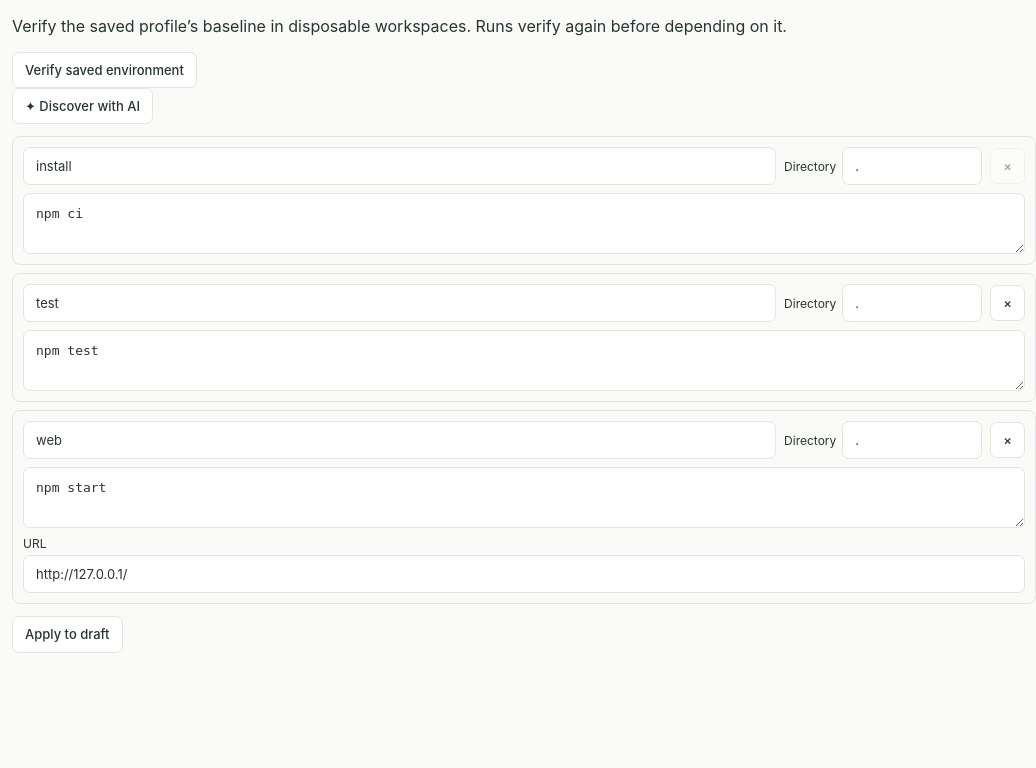
it: applies edited catalog fields and endpoints while preserving runtime metadata and prerequisites
Expected: the text box showing "npm ci" is shown, [23,193,1025,254]
Expected: the button named "Remove install" is disabled, [990,148,1025,184]
Replace the text in the field named "Suggestion 2 name" with "Unit tests" at (400, 303), box [23,284,776,322]
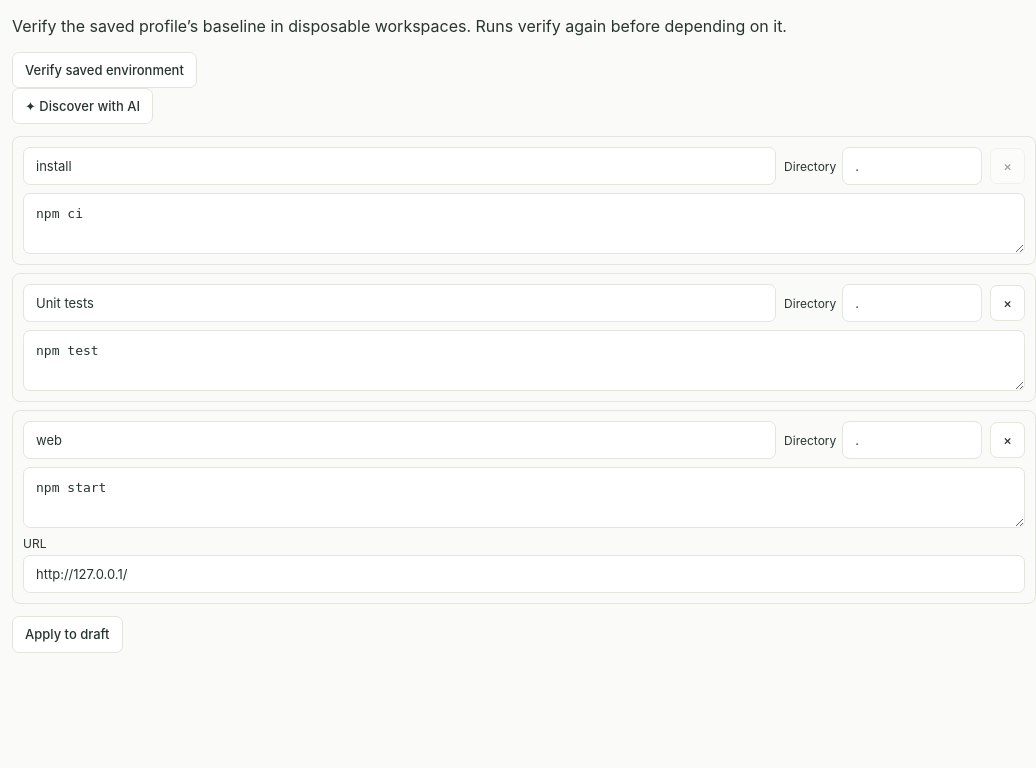
Replace the text in the field named "Suggestion 2 directory" with "frontend" at (912, 303), box [842,284,982,322]
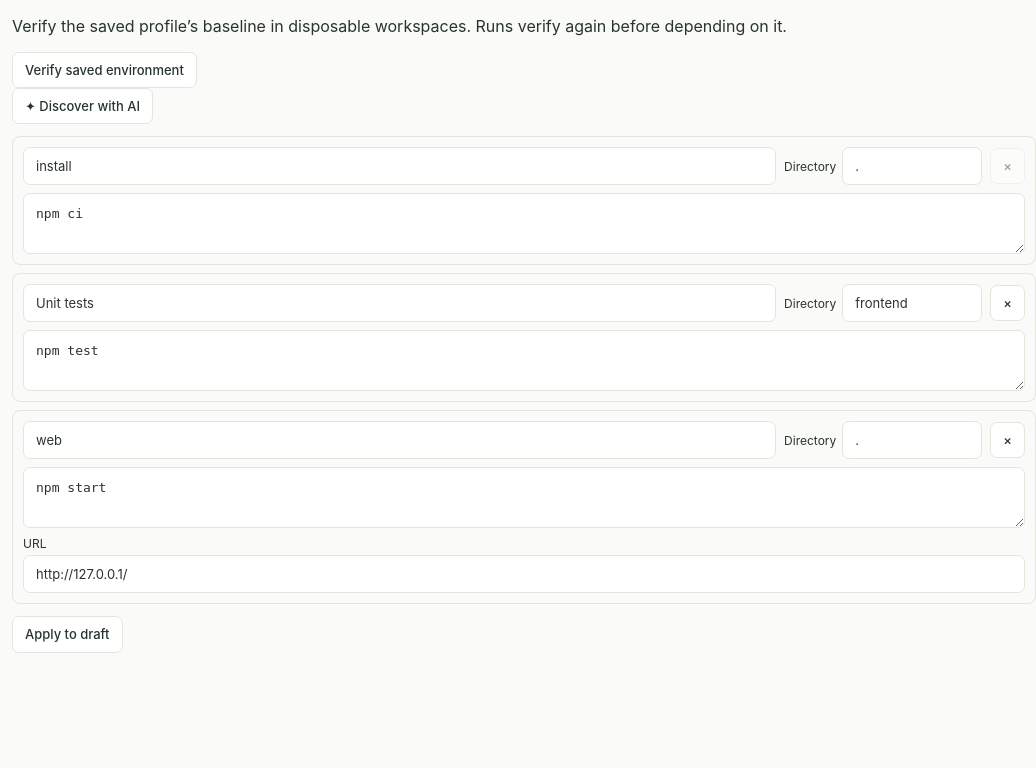
Replace the text in the text box named "Suggestion 2 command" with "nvm use && npm test" at (524, 361), box [23,330,1025,391]
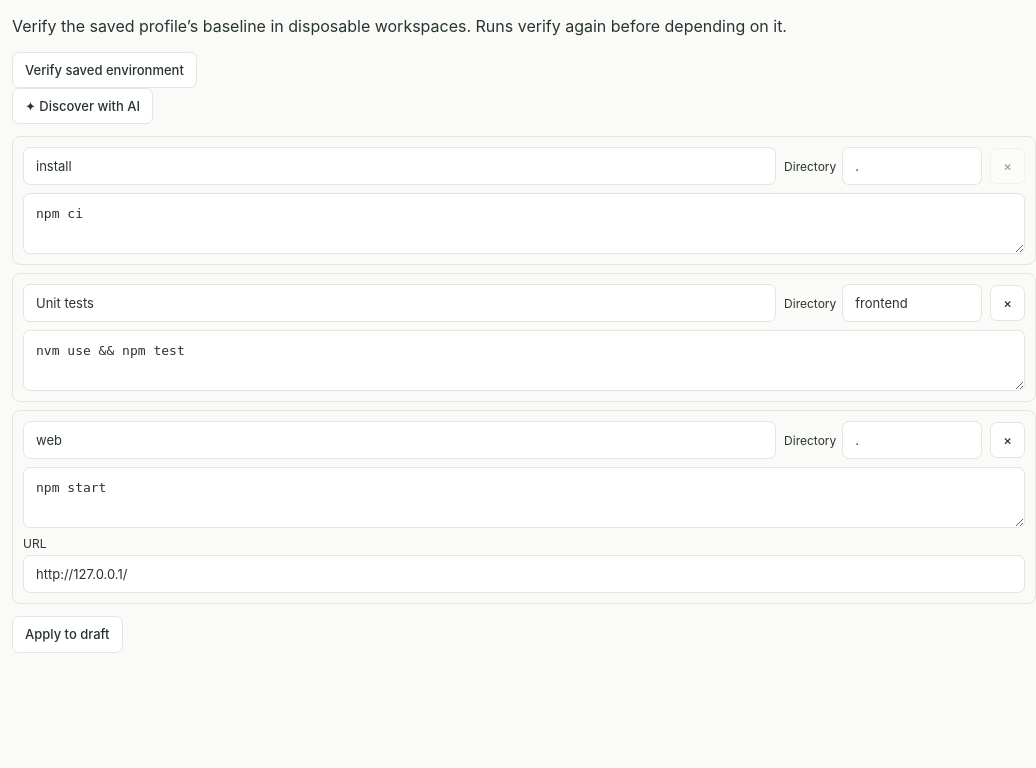
Replace the text in the field named "web web url" with "http://localhost/app" at (524, 574), box [23,555,1025,593]
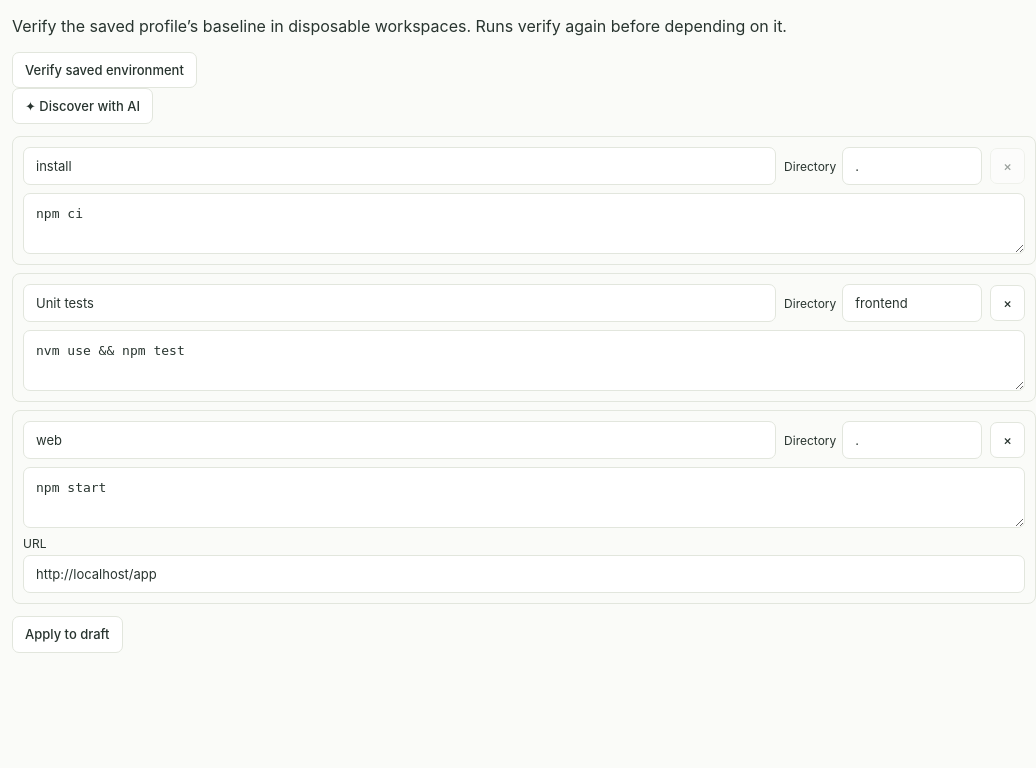
Click the button "Apply to draft" at (67, 634), box [12,616,122,653]
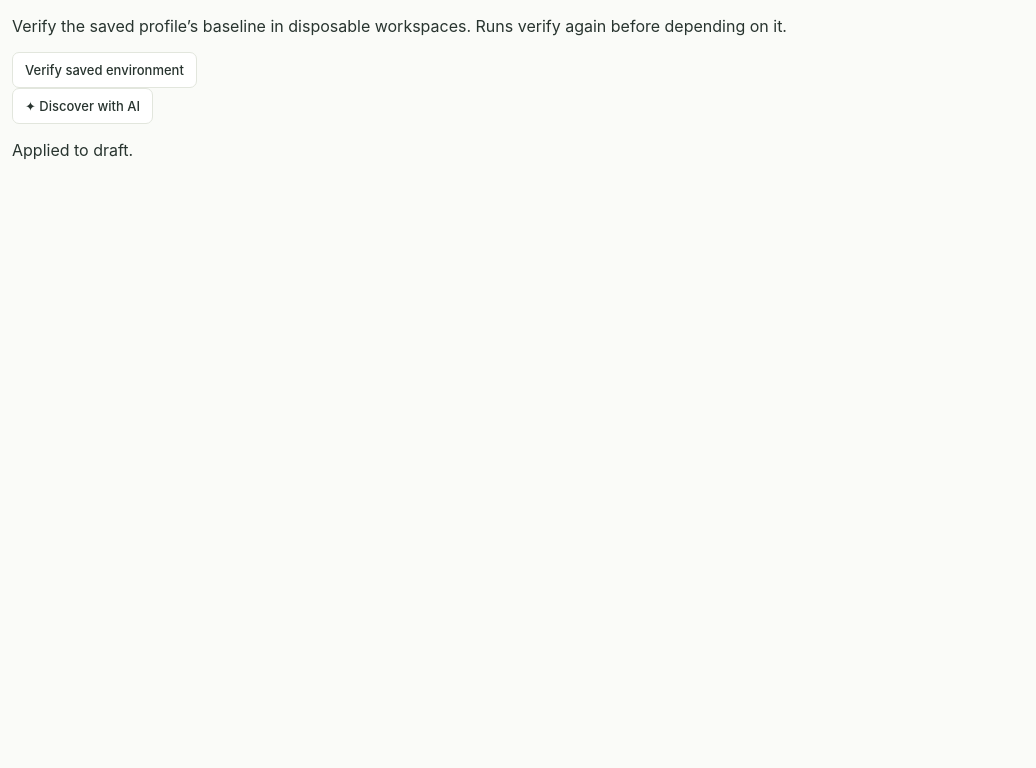
Now the button "Apply to draft" is gone
